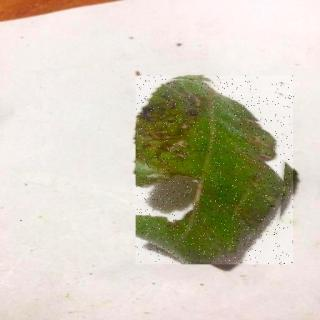Red Leaf Spot: (138, 77, 296, 266)
